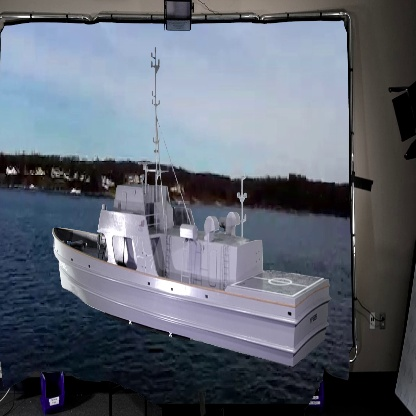YP689: (52, 44, 329, 370)
